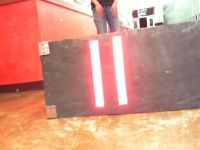switch: (111, 36, 129, 105), (89, 40, 105, 107)
